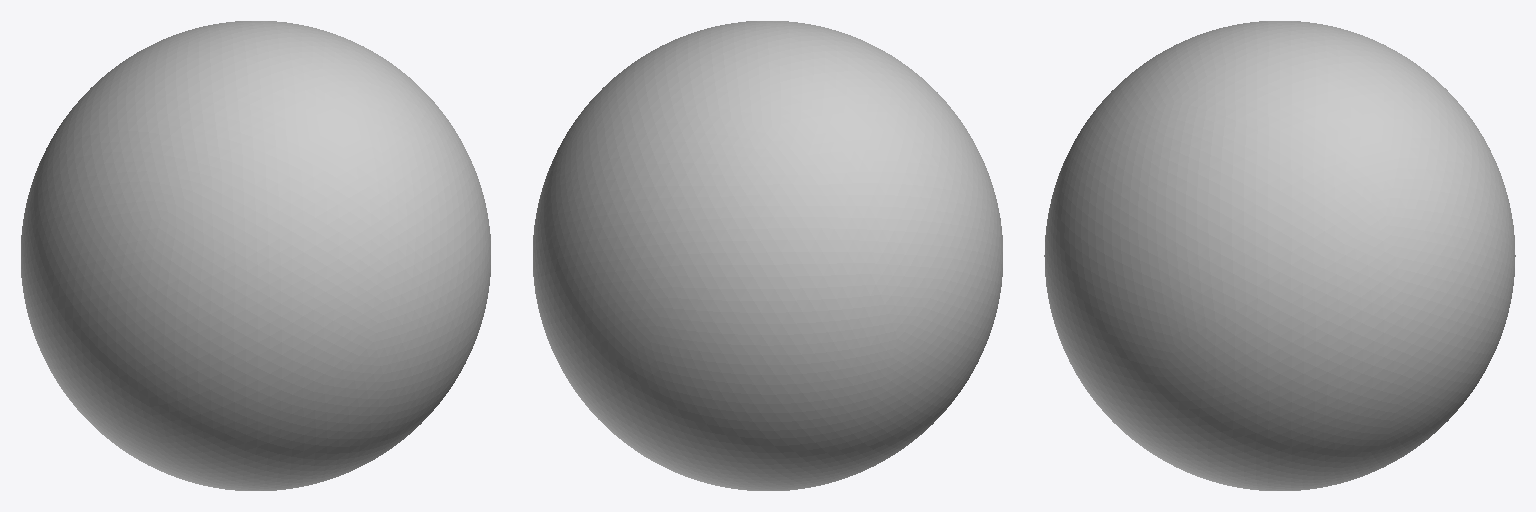
File: ball10k.obj
3 renders of one model, left to right at view 1: azimuth 30°, elevation 25°; view 2: azimuth 150°, elevation 25°; view 3: azimuth 270°, elevation 25°, orthographic.
Visible parts, largest first — view 1: pPlatonic1; view 2: pPlatonic1; view 3: pPlatonic1.
Boxes of the visible parts, box(x1,y1,x2,y2) form: pPlatonic1: box(21, 21, 490, 490); pPlatonic1: box(533, 21, 1002, 490); pPlatonic1: box(1044, 21, 1515, 490).
Bounding box in the file's own units: 2 × 2 × 2.